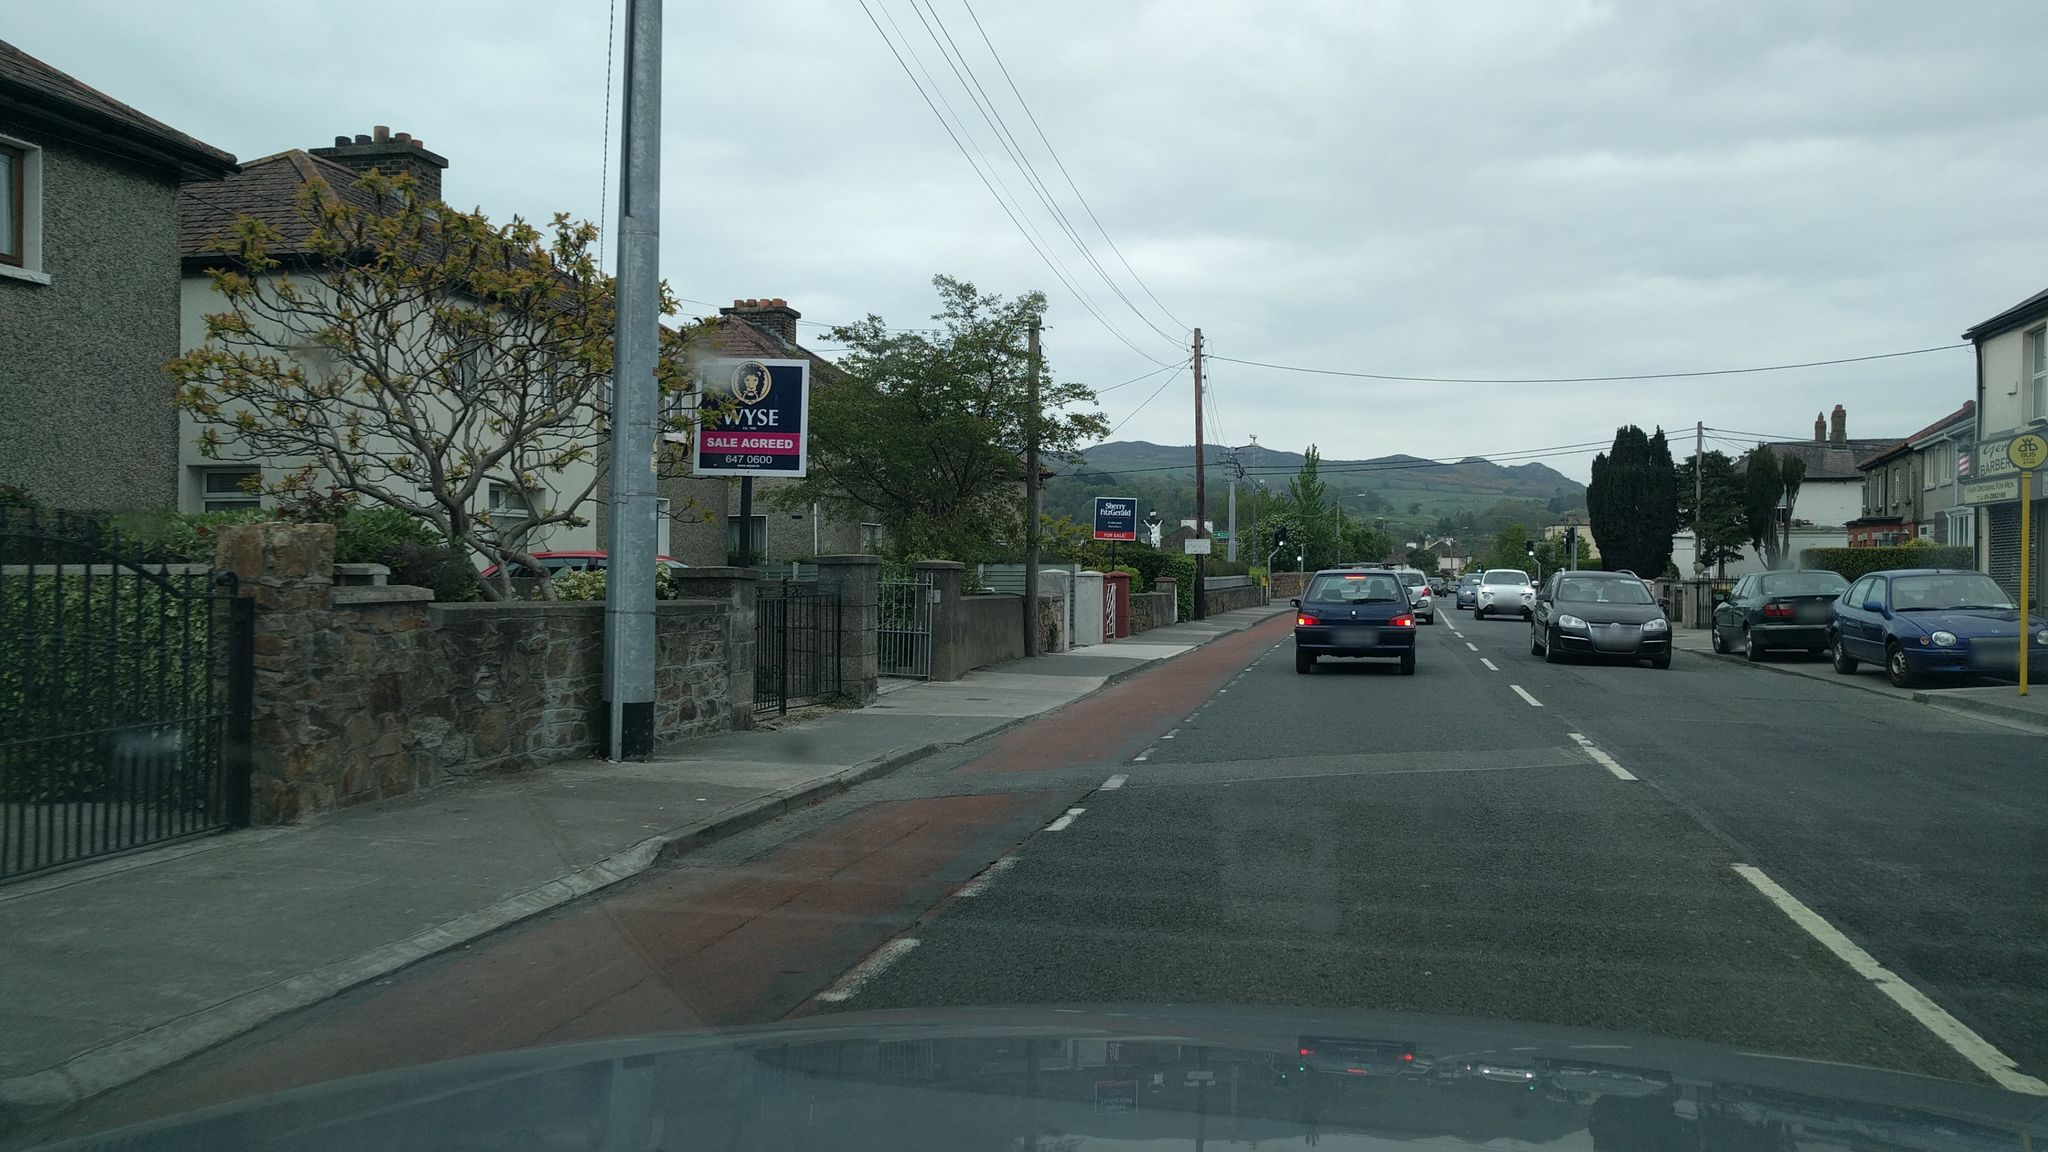property sign: (684, 340, 814, 482), (1089, 485, 1149, 542)
